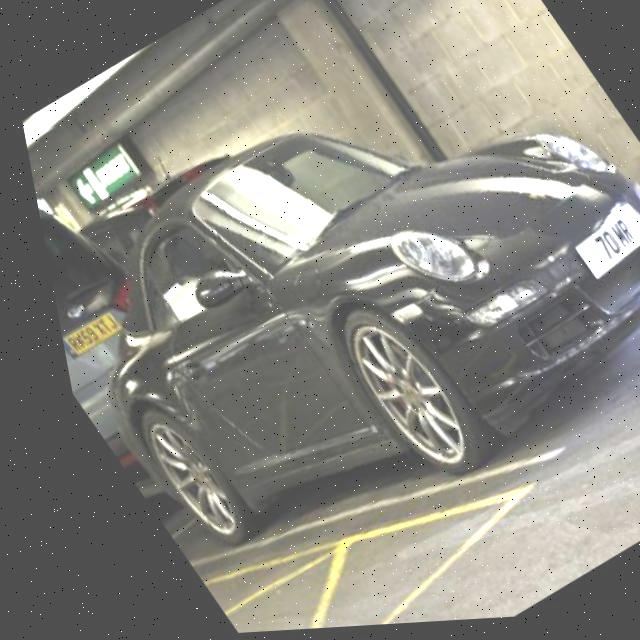license_plate: (555, 212, 640, 286)
